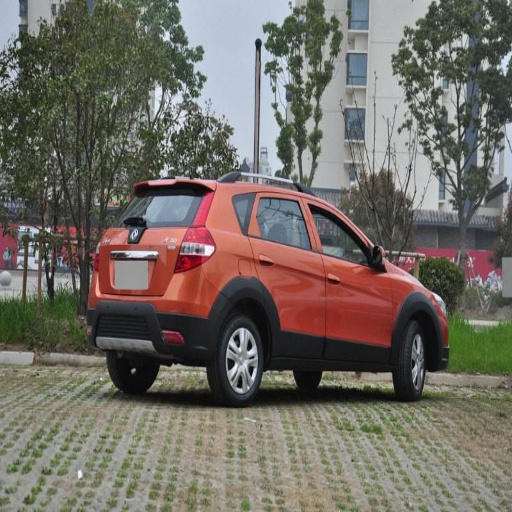back_bumper: (85, 265, 220, 358)
back_right_door: (249, 188, 324, 355)
tailgate: (95, 225, 183, 297)
